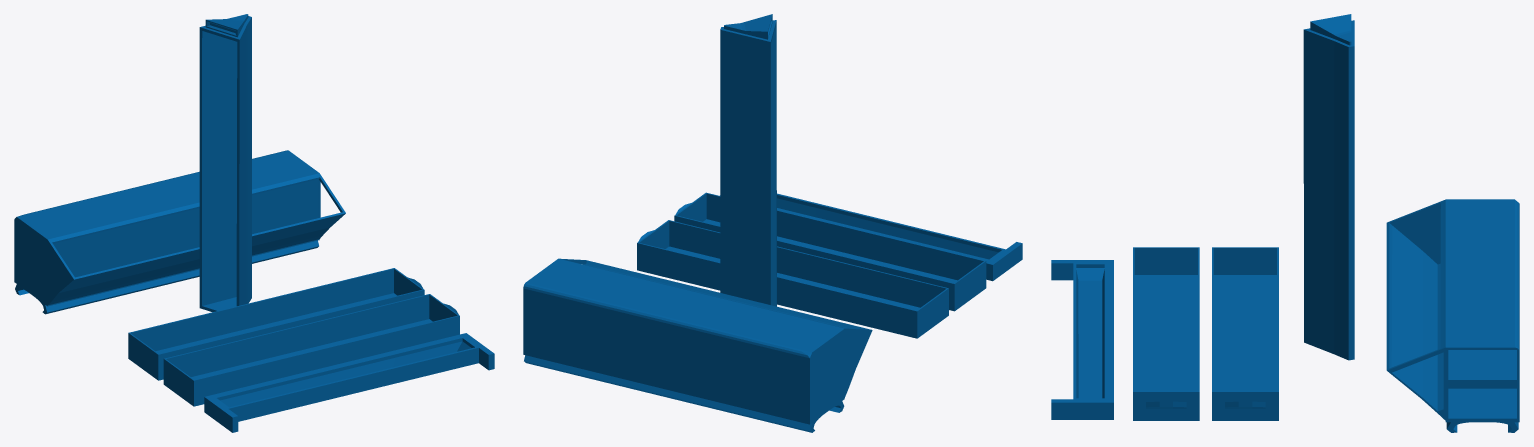
The model's file is SideBinV2.glb.
3 renders of one model, left to right at view 1: azimuth 30°, elevation 25°; view 2: azimuth 150°, elevation 25°; view 3: azimuth 270°, elevation 25°, orthographic. The views are drawn at different scales.
Parts seen in each view (by area): view 1: 4040 Bin, 4040 Side Tray, 4040 Bottom Tray, 4040 Top Tray, 4040 Trim Cover.003; view 2: 4040 Bin, 4040 Side Tray, 4040 Top Tray, 4040 Bottom Tray, 4040 Trim Cover.003; view 3: 4040 Bin, 4040 Side Tray, 4040 Top Tray, 4040 Bottom Tray, 4040 Trim Cover.003.
Boxes of the visible parts, box(x1,y1,x2,y2) form: 4040 Bin: box(14, 150, 345, 314); 4040 Side Tray: box(199, 14, 251, 312); 4040 Bottom Tray: box(163, 294, 459, 406); 4040 Top Tray: box(128, 268, 424, 380); 4040 Trim Cover.003: box(204, 333, 494, 432); 4040 Bin: box(523, 258, 872, 432); 4040 Side Tray: box(720, 14, 776, 306); 4040 Top Tray: box(637, 220, 948, 338); 4040 Bottom Tray: box(674, 192, 986, 311); 4040 Trim Cover.003: box(720, 193, 1022, 281); 4040 Bin: box(1386, 199, 1519, 432); 4040 Side Tray: box(1303, 14, 1354, 360); 4040 Top Tray: box(1212, 247, 1278, 420); 4040 Bottom Tray: box(1133, 247, 1199, 420); 4040 Trim Cover.003: box(1051, 260, 1113, 419).
Bounding box in the file's own units: 139 × 142 × 181.
